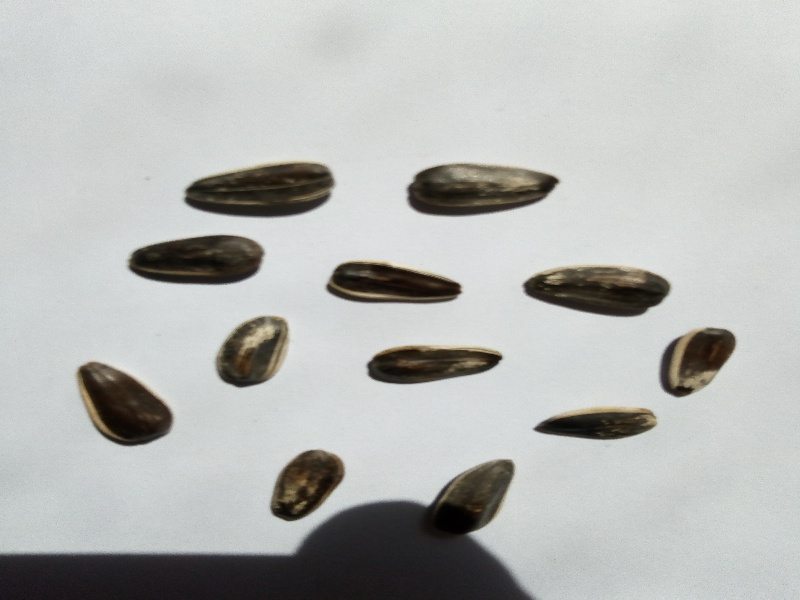girasol: (401, 146, 565, 231), (176, 146, 346, 222), (60, 352, 187, 451), (515, 253, 676, 327), (349, 332, 510, 397), (421, 447, 525, 544), (321, 251, 472, 316), (120, 228, 271, 286), (207, 306, 301, 398), (254, 438, 348, 525), (658, 315, 740, 405), (530, 397, 661, 452)
